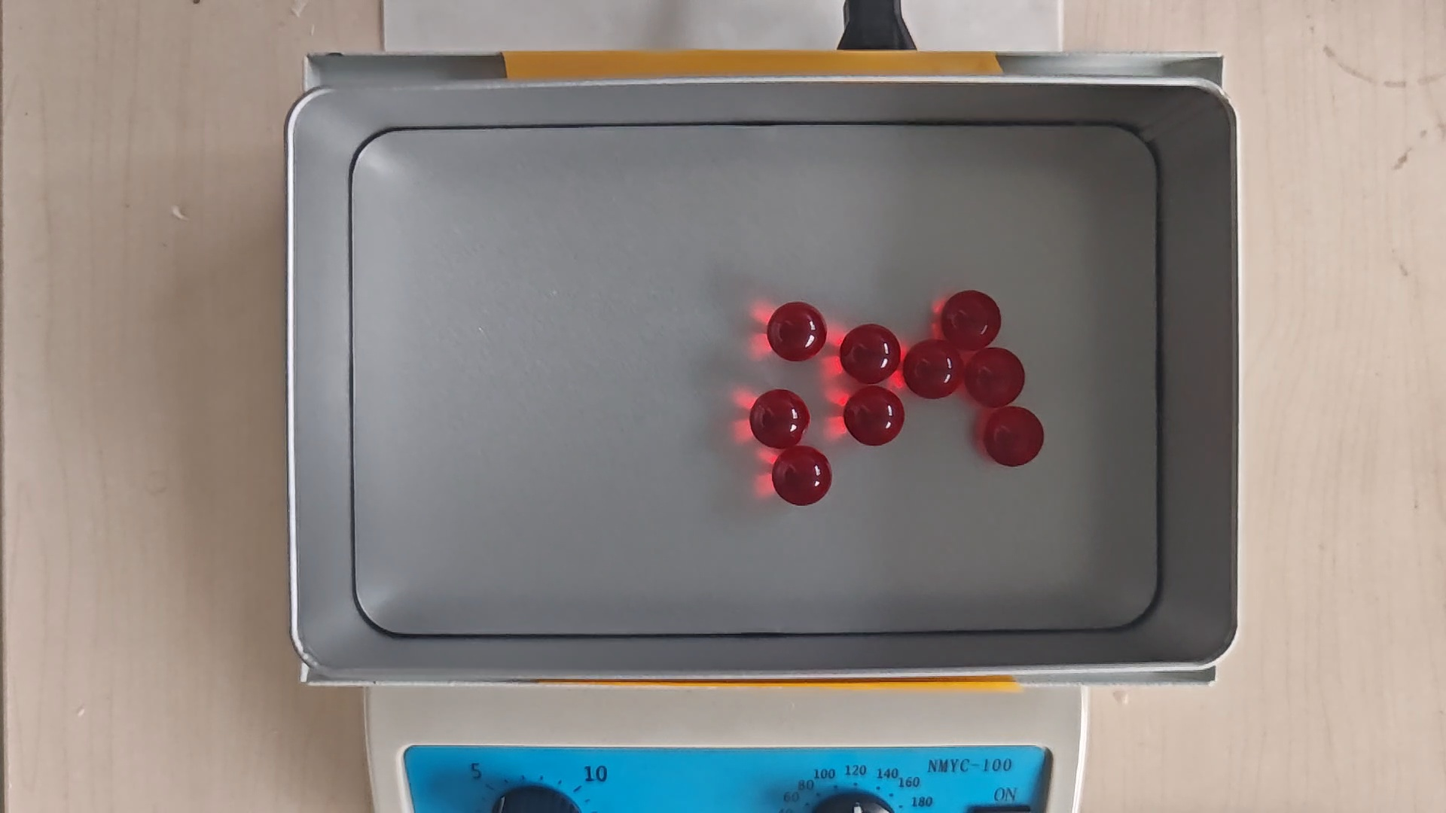ball: (984, 406, 1045, 468), (841, 323, 901, 386), (767, 301, 828, 362), (844, 386, 905, 447), (772, 446, 833, 507), (903, 339, 963, 401), (750, 389, 810, 449), (941, 289, 1001, 349), (966, 348, 1025, 408)
container: (346, 121, 1165, 633)
